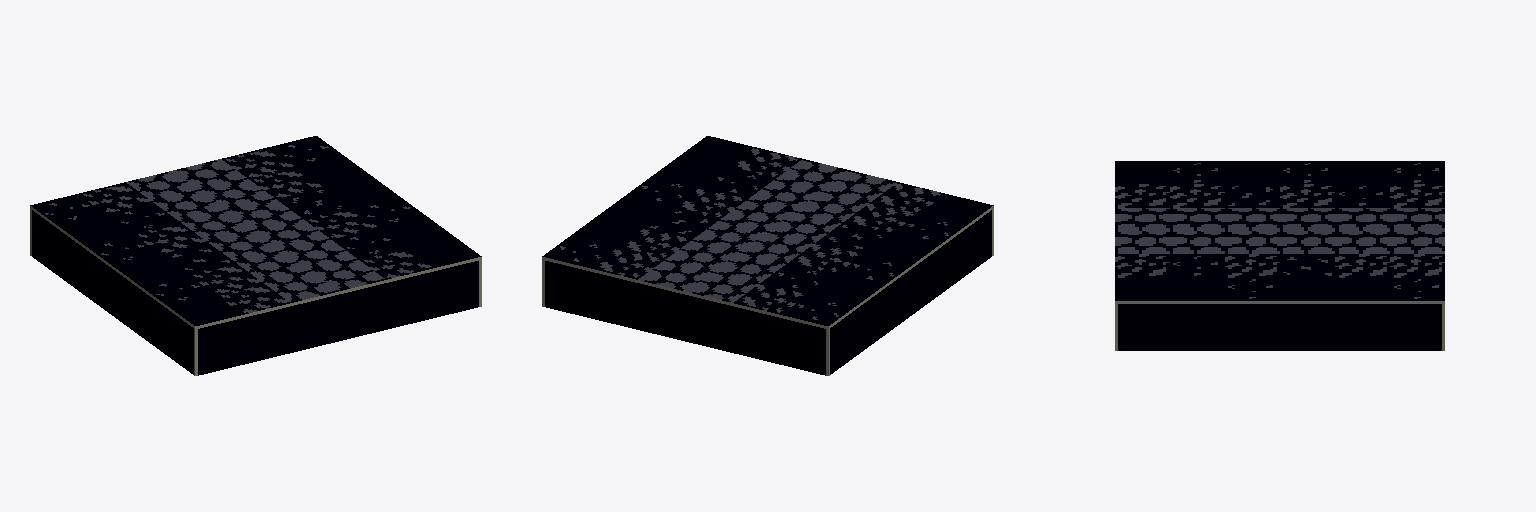
3 views of the same model, side by side, from view 1: azimuth 30°, elevation 25°; view 2: azimuth 150°, elevation 25°; view 3: azimuth 270°, elevation 25° (orthographic).
Parts seen in each view (by area): view 1: Default; view 2: Default; view 3: Default.
Part boxes in pixels (x1,y1,x2,y2): Default: (30,136,481,375); Default: (542,136,993,375); Default: (1115,161,1444,350).
Bounding box in the file's own units: 6 × 1 × 6.
Materials: 1 (1 with a texture image).